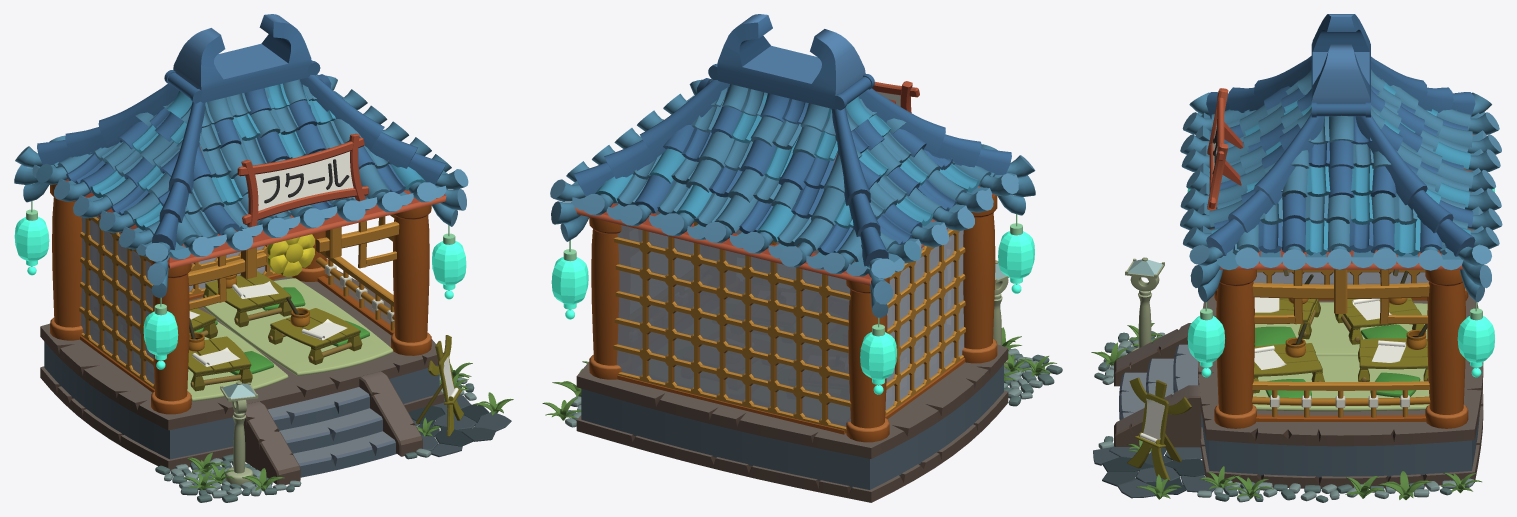
The model's file is truongHoc.glb.
3 views of the same model, side by side, from view 1: azimuth 30°, elevation 25°; view 2: azimuth 150°, elevation 25°; view 3: azimuth 270°, elevation 25° (orthographic). The views are drawn at different scales.
Visible parts, largest first — view 1: pCube64, pCube66, polySurface1614, pCube63, pCube67, pCube253, polySurface1934, pCube24, pCylinder44, pCylinder48, pCylinder50, polySurface1523 (+46 smaller); view 2: pCube23, polySurface1867, pCube63, pCube64, polySurface1614, pCube267, polySurface1934, pCube24, pCylinder50, pCylinder3, pCylinder48, polySurface1625 (+47 smaller); view 3: pCube64, pCube63, polySurface1614, pCylinder3, pCylinder44, pCube67, pCube253, pCube66, pCube267, pCube25, pCube236, pasted__polySurface1449 (+79 smaller).
Part boxes in pixels (x1,y1,x2,y2): pCube64: [40, 270, 443, 430]; pCube66: [267, 387, 396, 477]; polySurface1614: [173, 14, 311, 102]; pCube63: [44, 342, 439, 459]; pCube67: [243, 371, 422, 484]; pCube253: [203, 278, 393, 375]; polySurface1934: [79, 217, 154, 389]; pCube24: [81, 216, 154, 384]; pCylinder44: [393, 215, 429, 342]; pCylinder48: [52, 198, 81, 327]; pCylinder50: [153, 274, 189, 401]; polySurface1523: [255, 151, 353, 210]; pCube23: [613, 202, 855, 426]; polySurface1867: [613, 221, 851, 432]; pCube63: [581, 364, 1003, 489]; pCube64: [576, 344, 1008, 458]; polySurface1614: [717, 14, 865, 109]; pCube267: [576, 390, 1008, 502]; polySurface1934: [885, 229, 965, 415]; pCube24: [885, 228, 964, 410]; pCylinder50: [963, 213, 995, 349]; pCylinder3: [591, 229, 619, 365]; pCylinder48: [848, 289, 887, 428]; polySurface1625: [640, 79, 729, 158]; pCube64: [1198, 294, 1483, 446]; pCube63: [1202, 414, 1479, 477]; polySurface1614: [1311, 14, 1370, 103]; pCylinder3: [1427, 281, 1465, 414]; pCylinder44: [1216, 282, 1254, 414]; pCube67: [1114, 323, 1201, 447]; pCube253: [1253, 356, 1429, 411]; pCube66: [1119, 344, 1202, 427]; pCube267: [1200, 387, 1483, 488]; pCube25: [1252, 282, 1429, 298]; pCube236: [1255, 302, 1427, 355]; pasted__polySurface1449: [1127, 377, 1191, 480].
Bounding box in the file's own units: 1.54 × 1.51 × 1.46.
